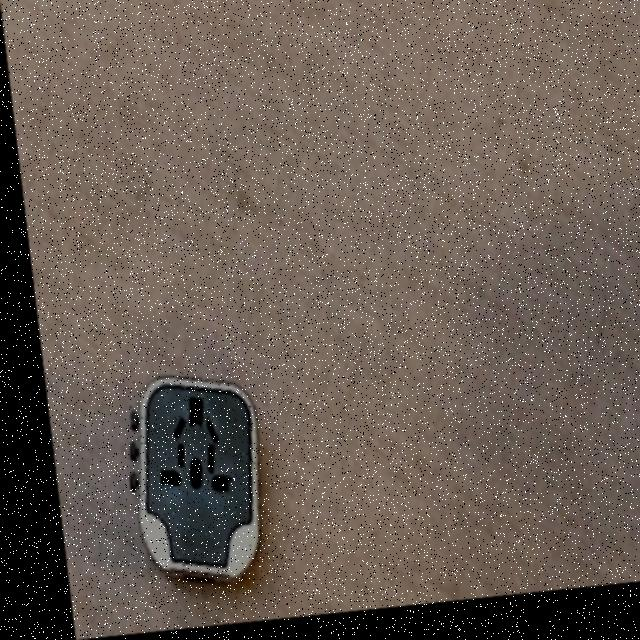adapter: (106, 369, 261, 591)
